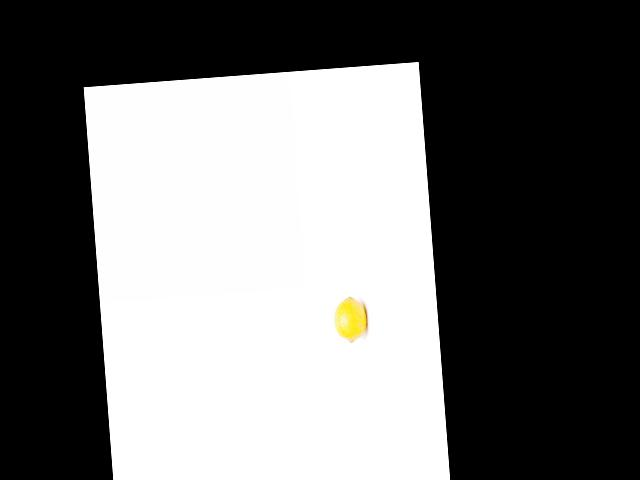lemon: (331, 295, 373, 347)
